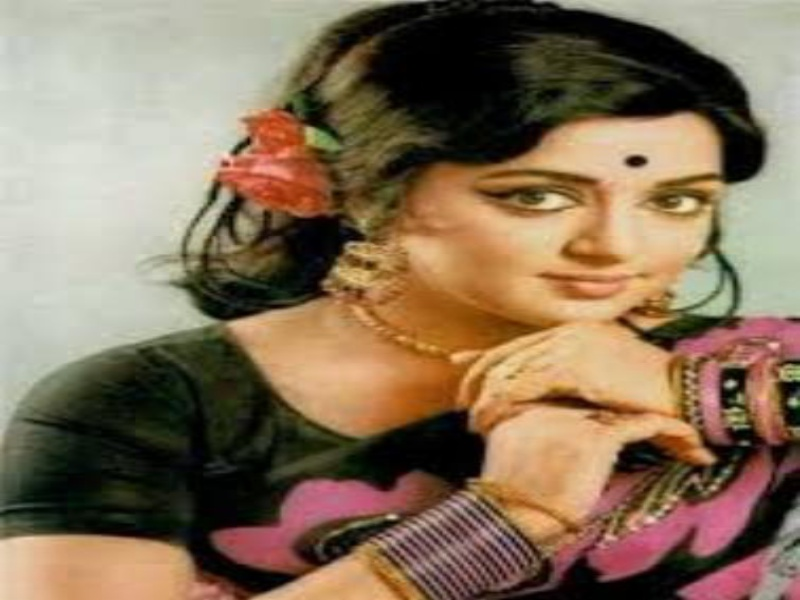TsisyArotava: (348, 1, 738, 346)
